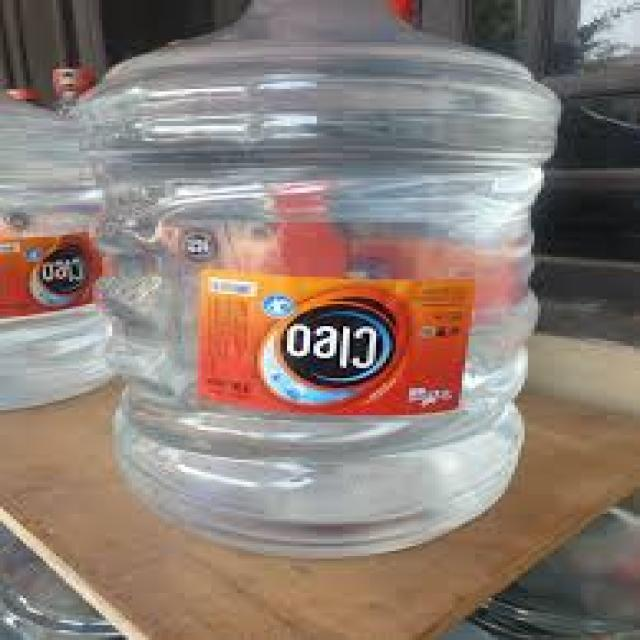Galon: (66, 0, 561, 558)
